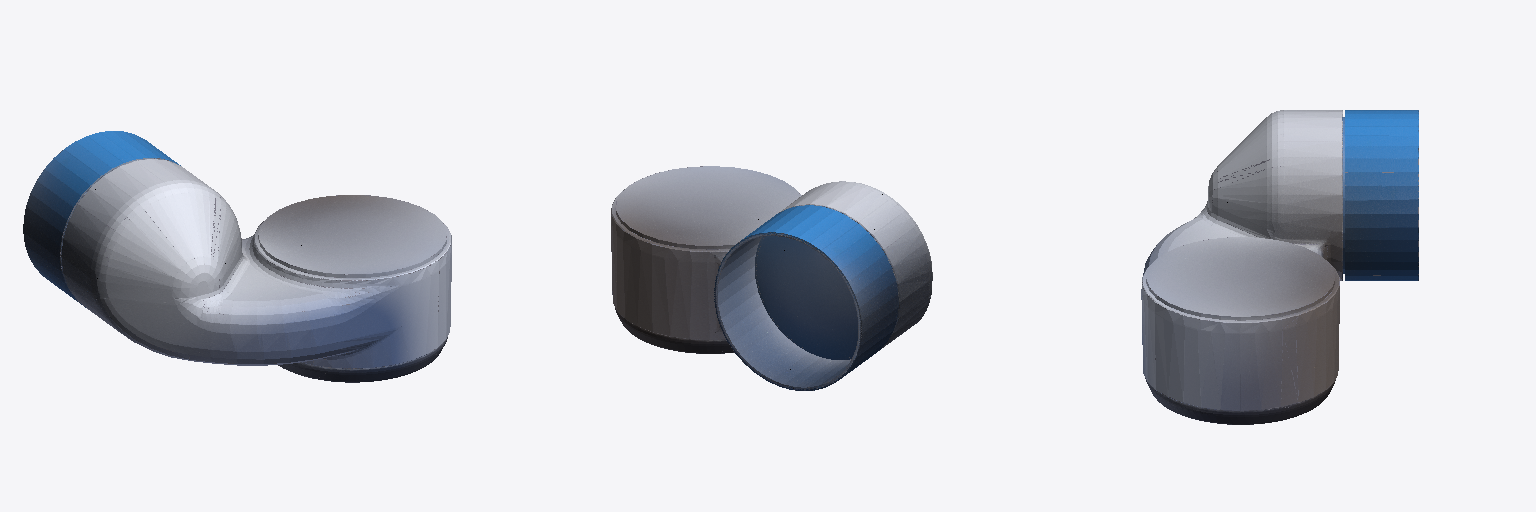
The picture shows the model from 3 angles: view 1: azimuth 30°, elevation 25°; view 2: azimuth 150°, elevation 25°; view 3: azimuth 270°, elevation 25°; orthographic projection.
Bounding box in the file's own units: 0.2295 × 0.1265 × 0.1685.
1 materials, 1 textured.